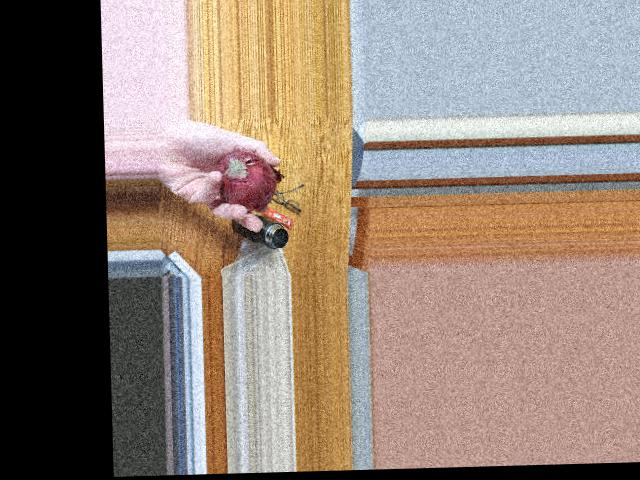onion: (214, 148, 270, 210)
